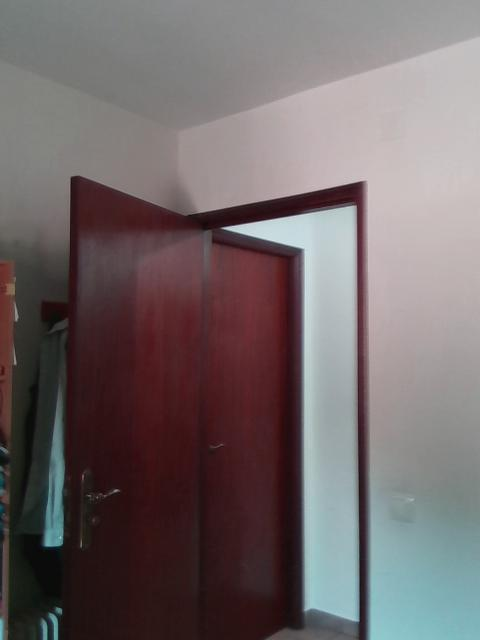open_door: (167, 177, 370, 639)
